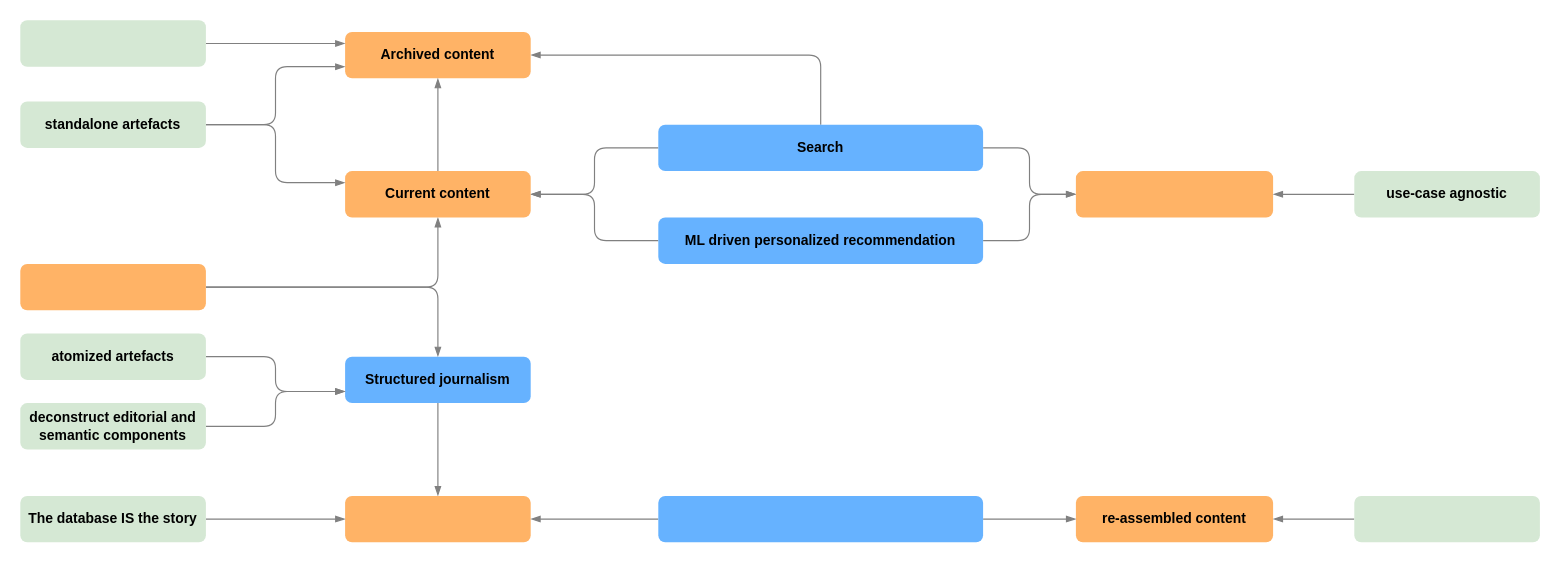
Image size: 1559x561. Some labels were removed from this diagram. The shapes that lost their labels are listed below. From the top down, each one's box as (x1, y1, x2, y2) in pixels, then its label:
(20, 20, 205, 66): large volumes
(1075, 171, 1273, 217): monolithic content
(20, 263, 205, 310): Digital ecosystem
(345, 495, 530, 542): Modular content
(658, 495, 983, 542): Linked structure query
(1354, 495, 1539, 542): use-case specific
